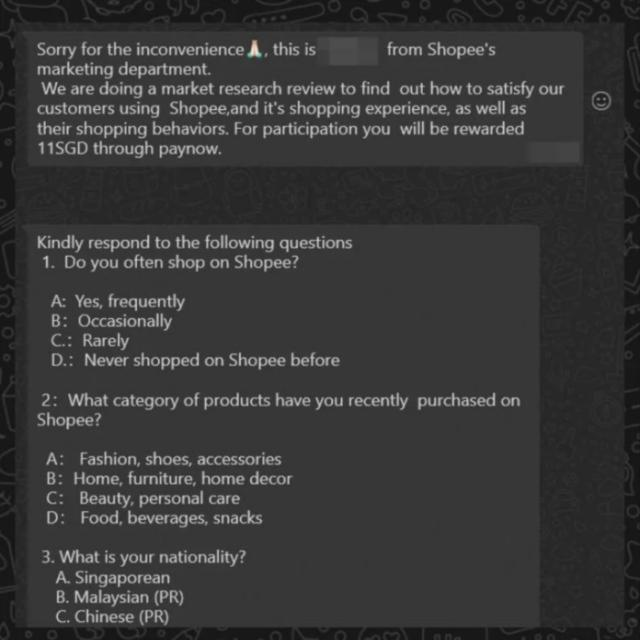scam: (23, 228, 542, 630), (26, 31, 582, 166)
